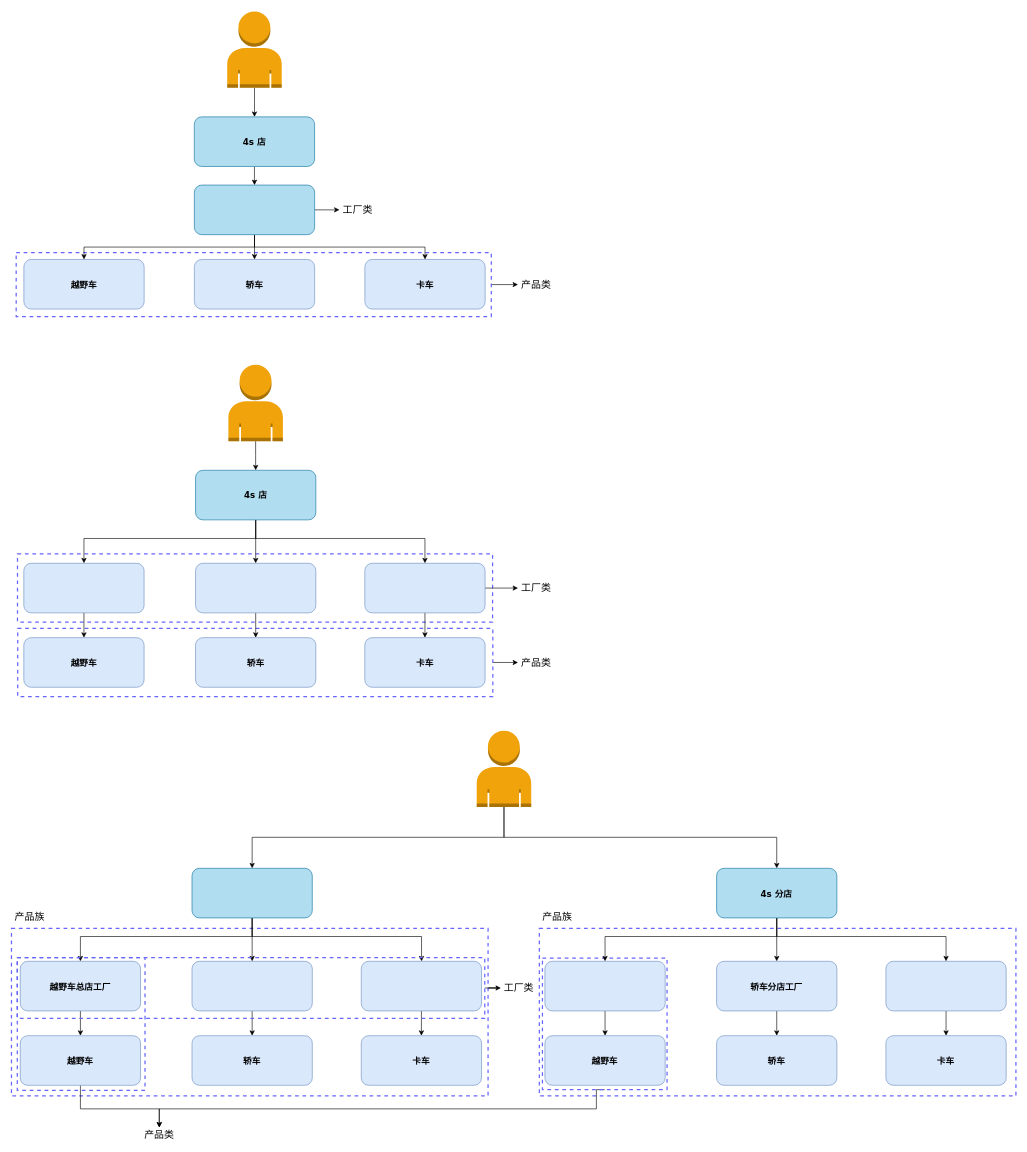
Some shapes in this 1027 by 1152 pixel diagram are drawn without their labels. Each missing label, with the box of its shape:
4s 总店: (191, 868, 312, 918)
卡车 分店 工厂: (885, 961, 1006, 1011)
卡车 工厂: (364, 563, 485, 613)
卡车 总店 工厂: (361, 961, 482, 1011)
汽车工厂: (194, 184, 315, 235)
越野车 分店 工厂: (544, 961, 665, 1011)
越野车工厂: (23, 563, 144, 613)
轿车 工厂: (195, 563, 316, 613)
轿车 总店 工厂: (191, 961, 312, 1011)
